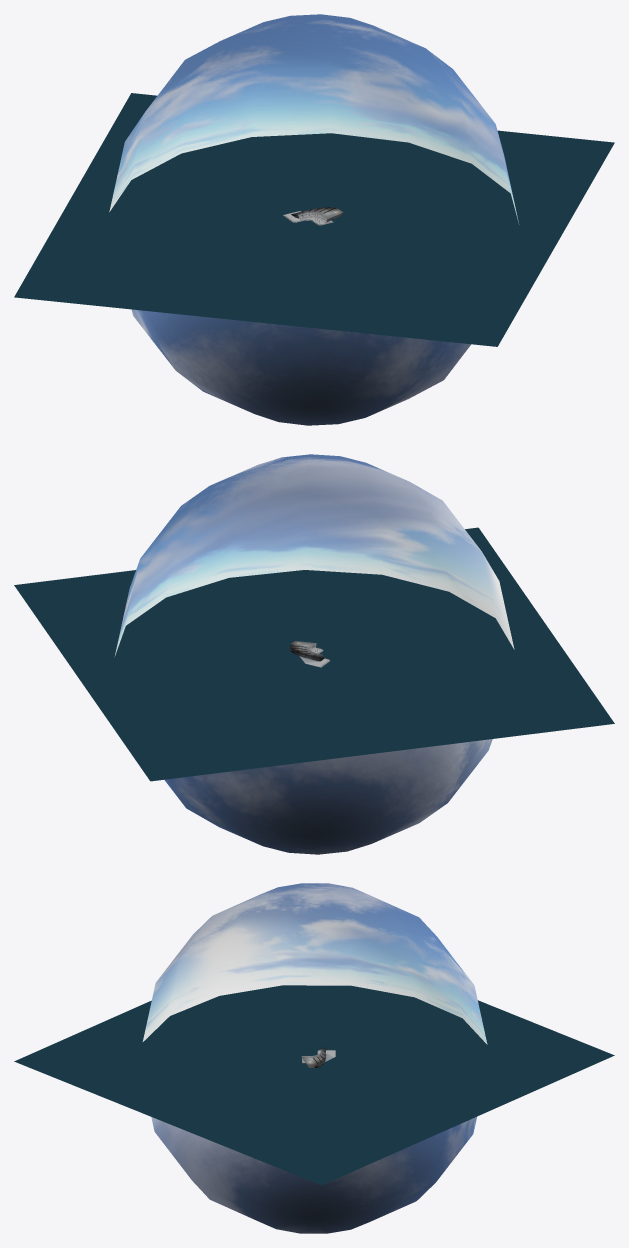
The model's file is museum.glb.
3 views of the same model, one above another, from view 1: azimuth 30°, elevation 25°; view 2: azimuth 150°, elevation 25°; view 3: azimuth 270°, elevation 25° (orthographic). The views are drawn at different scales.
Visible parts, largest first — view 1: Ocean, sky, exterior; view 2: Ocean, sky, exterior; view 3: Ocean, sky.
Boxes of the visible parts, left/top/right/bottom form: Ocean: left=14, top=93, right=614, bottom=346; sky: left=109, top=14, right=519, bottom=425; exterior: left=283, top=207, right=343, bottom=225; Ocean: left=14, top=527, right=614, bottom=781; sky: left=114, top=454, right=514, bottom=854; exterior: left=290, top=641, right=329, bottom=667; Ocean: left=14, top=985, right=614, bottom=1185; sky: left=142, top=883, right=487, bottom=1233.
Size of what is drawn, in the model's own units: 1131 by 662 by 1131.
Materials: 25 (12 with a texture image).
